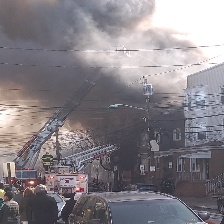smoke: (1, 1, 212, 141)
